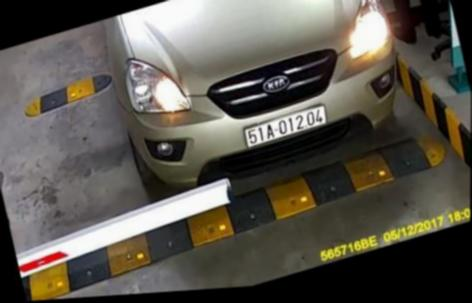License_Plate: (243, 100, 327, 156)
